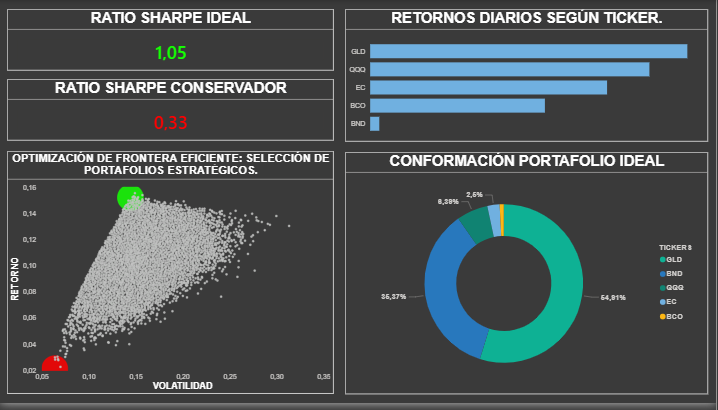

The dashboard page shown, as its layout file describes it:
{"tool":"powerbi","page":{"name":"OPTIMIZACIÓN DE PORTAFOLIO. (MARKOWITZ)","canvas":[1280,720],"ordinal":2},"visuals":[{"type":"donutChart","title":"CONFORMACIÓN PORTAFOLIO IDEAL","fields":{"Category":["Dim_Activos.Ticker"],"Y":["Sum(Tab_Asignacion_Optima.Peso_Optimo)"]},"box":[616.2,270.9,648.6,433],"z":0},{"type":"clusteredBarChart","title":"RETORNOS DIARIOS SEGÚN TICKER.","fields":{"Y":["DAX_MEDIDAS.Retorno Diario"],"Category":["Dim_Activos.Ticker"]},"box":[616.2,15.3,648.6,236.5],"z":1000},{"type":"scatterChart","title":"OPTIMIZACIÓN DE FRONTERA EFICIENTE: SELECCIÓN DE PORTAFOLIOS ESTRATÉGICOS.","fields":{"X":["Fact_Simulaciones.Volatilidad"],"Y":["Fact_Simulaciones.Retorno"],"Size":["DAX_MEDIDAS.TamañoPuntosEstrategicos"]},"box":[12,270,584,434],"z":2000},{"type":"cardVisual","title":"RATIO SHARPE IDEAL","fields":{"Data":["DAX_MEDIDAS.KPI_Sharpe_Ideal"]},"box":[12,16,584,110],"z":3000},{"type":"cardVisual","title":"RATIO SHARPE CONSERVADOR","fields":{"Data":["DAX_MEDIDAS.KPI_Sharpe_Conservador"]},"box":[12,142,584,110],"z":4000}]}

Visuals, with their boxes in screenshot pixels (x1, y1, x2, y2), scaled from the page's 1280x720 canvas onto the 718x410 screenshot:
"CONFORMACIÓN PORTAFOLIO IDEAL" donutChart: select_region(346, 154, 709, 401)
"RETORNOS DIARIOS SEGÚN TICKER." clusteredBarChart: select_region(346, 9, 709, 143)
"OPTIMIZACIÓN DE FRONTERA EFICIENTE: SELECCIÓN DE PORTAFOLIOS ESTRATÉGICOS." scatterChart: select_region(7, 154, 334, 401)
"RATIO SHARPE IDEAL" cardVisual: select_region(7, 9, 334, 72)
"RATIO SHARPE CONSERVADOR" cardVisual: select_region(7, 81, 334, 144)
